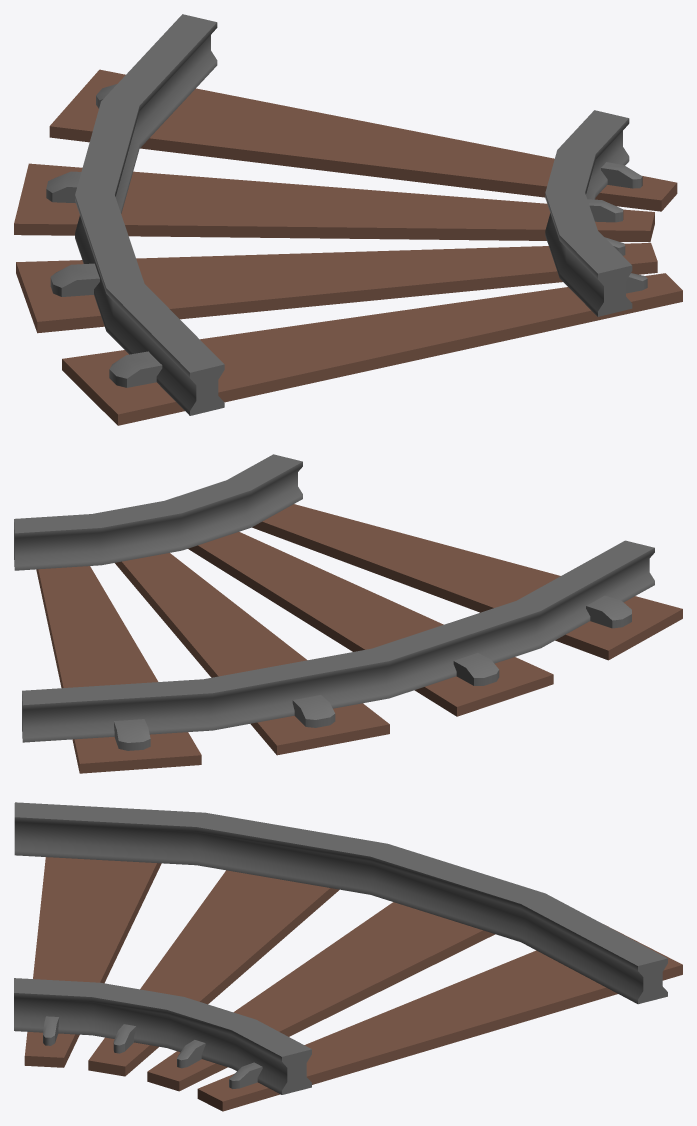
The model's file is Trilho_curva.fbx.
The picture shows the model from 3 angles, top to bottom: view 1: azimuth 30°, elevation 25°; view 2: azimuth 150°, elevation 25°; view 3: azimuth 270°, elevation 25°; orthographic projection. The views are drawn at different scales.
Parts seen in each view (by area): view 1: Trilho_curvo; view 2: Trilho_curvo; view 3: Trilho_curvo.
Boxes of the visible parts, x1,y1,x2,y2 form: Trilho_curvo: [14, 14, 682, 425]; Trilho_curvo: [14, 454, 682, 773]; Trilho_curvo: [14, 802, 682, 1111].
Size of the model in its own units: 242 by 19.27 by 241.
